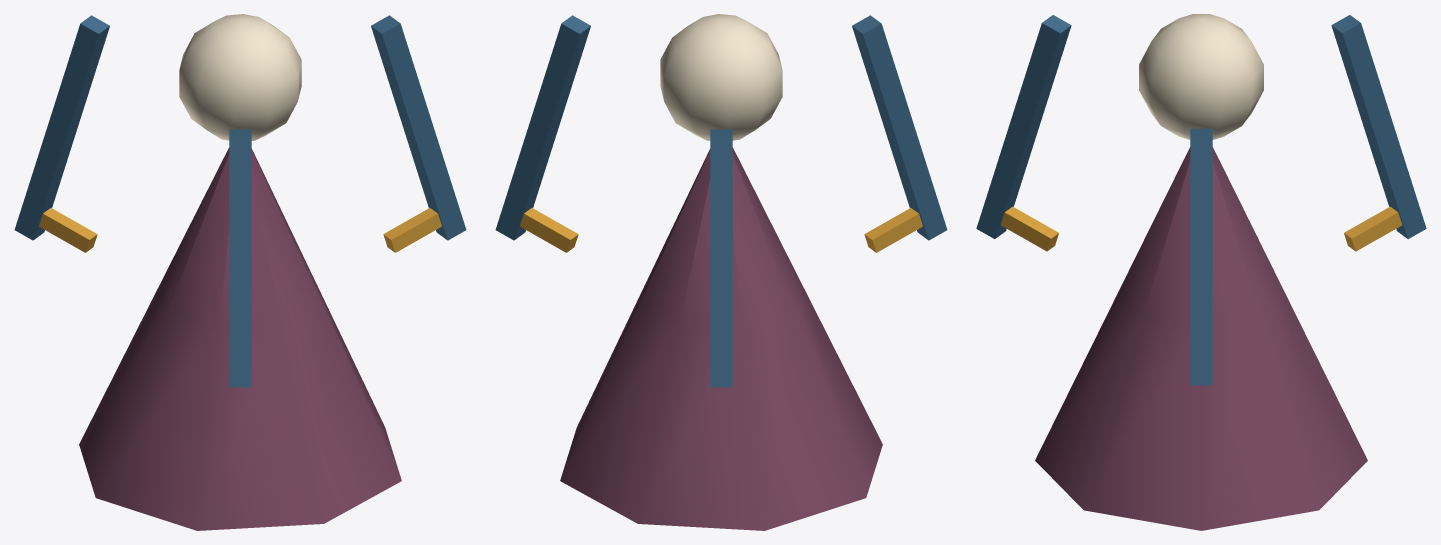
File: jian_zhen_shi.glb
3 renders of one model, left to right at view 1: azimuth 30°, elevation 25°; view 2: azimuth 150°, elevation 25°; view 3: azimuth 270°, elevation 25°, orthographic.
Visible parts, largest first — view 1: _MeshInstance3D_34, _MeshInstance3D_35, _MeshInstance3D_36, _MeshInstance3D_40, _MeshInstance3D_38, _MeshInstance3D_37, _MeshInstance3D_41; view 2: _MeshInstance3D_34, _MeshInstance3D_35, _MeshInstance3D_36, _MeshInstance3D_38, _MeshInstance3D_40, _MeshInstance3D_37, _MeshInstance3D_39; view 3: _MeshInstance3D_34, _MeshInstance3D_35, _MeshInstance3D_38, _MeshInstance3D_40, _MeshInstance3D_36, _MeshInstance3D_39, _MeshInstance3D_41.
Boxes of the visible parts, x1,y1,x2,y2 form: _MeshInstance3D_34: [79, 147, 401, 530]; _MeshInstance3D_35: [179, 14, 301, 140]; _MeshInstance3D_36: [371, 15, 466, 240]; _MeshInstance3D_40: [14, 15, 109, 240]; _MeshInstance3D_38: [229, 129, 251, 387]; _MeshInstance3D_37: [383, 208, 441, 252]; _MeshInstance3D_41: [39, 208, 97, 252]; _MeshInstance3D_34: [560, 147, 882, 530]; _MeshInstance3D_35: [660, 14, 782, 140]; _MeshInstance3D_36: [495, 15, 590, 240]; _MeshInstance3D_38: [852, 15, 947, 240]; _MeshInstance3D_40: [710, 129, 732, 387]; _MeshInstance3D_37: [520, 208, 578, 252]; _MeshInstance3D_39: [864, 208, 922, 252]; _MeshInstance3D_34: [1035, 147, 1367, 530]; _MeshInstance3D_35: [1139, 14, 1263, 139]; _MeshInstance3D_38: [976, 15, 1071, 238]; _MeshInstance3D_40: [1331, 15, 1426, 238]; _MeshInstance3D_36: [1190, 128, 1212, 385]; _MeshInstance3D_39: [1000, 206, 1058, 251]; _MeshInstance3D_41: [1344, 206, 1402, 251].
Size of the model in its own units: 0.6558 by 0.76 by 0.7031.
